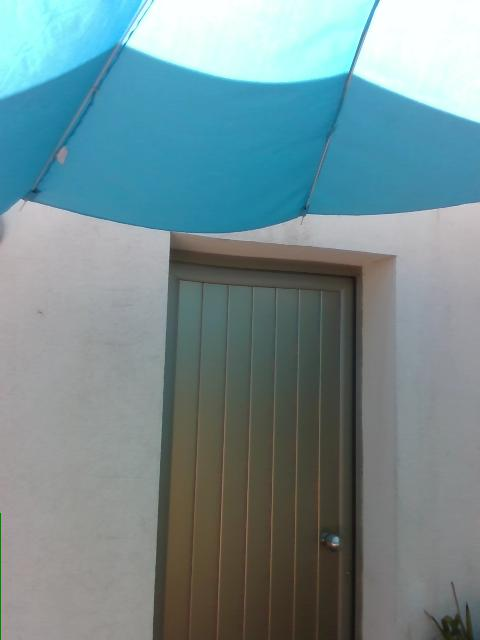closed_door: (152, 231, 395, 638)
